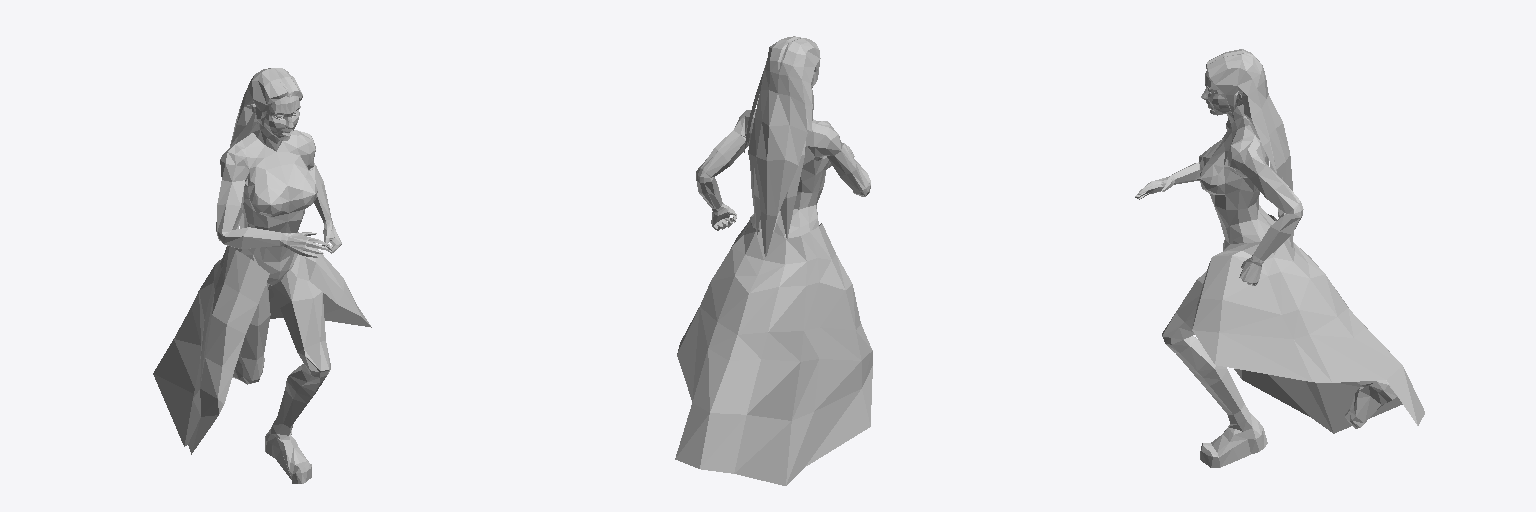
Rendered from running_005.obj.
The picture shows the model from 3 angles: view 1: azimuth 30°, elevation 25°; view 2: azimuth 150°, elevation 25°; view 3: azimuth 270°, elevation 25°; orthographic projection.
Visible parts, largest first — view 1: Plane.001_Plane.007, Plane.003_Plane.008, capelli.001_Plane.006; view 2: Plane.003_Plane.008, capelli.001_Plane.006, Plane.001_Plane.007; view 3: Plane.003_Plane.008, Plane.001_Plane.007, capelli.001_Plane.006.
Part boxes in pixels (x1,y1,x2,y2): Plane.001_Plane.007: (216, 78, 341, 483); Plane.003_Plane.008: (153, 246, 371, 454); capelli.001_Plane.006: (230, 68, 302, 228); Plane.003_Plane.008: (675, 214, 872, 485); capelli.001_Plane.006: (744, 36, 820, 256); Plane.001_Plane.007: (696, 75, 870, 238); Plane.003_Plane.008: (1192, 214, 1424, 433); Plane.001_Plane.007: (1135, 56, 1397, 467); capelli.001_Plane.006: (1206, 49, 1293, 247).
Bounding box in the file's own units: 2.2 × 5.1 × 3.32.